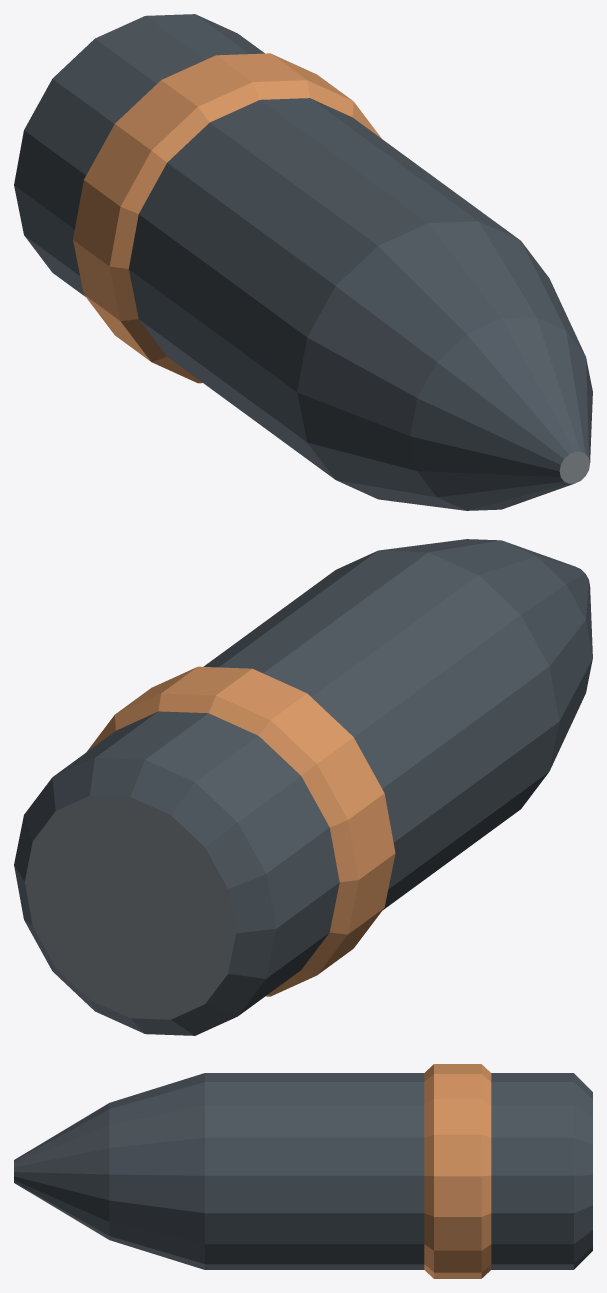
Rendered from shell-regular.glb.
3 renders of one model, top to bottom at view 1: azimuth 30°, elevation 25°; view 2: azimuth 150°, elevation 25°; view 3: azimuth 270°, elevation 25°, orthographic. The views are drawn at different scales.
Parts seen in each view (by area): view 1: shell-regular; view 2: shell-regular; view 3: shell-regular.
Boxes of the visible parts, bbox=[...] form: shell-regular: bbox=[14, 14, 592, 510]; shell-regular: bbox=[14, 539, 592, 1035]; shell-regular: bbox=[14, 1064, 592, 1278].
Bounding box in the file's own units: 0.338 × 0.338 × 0.91.
